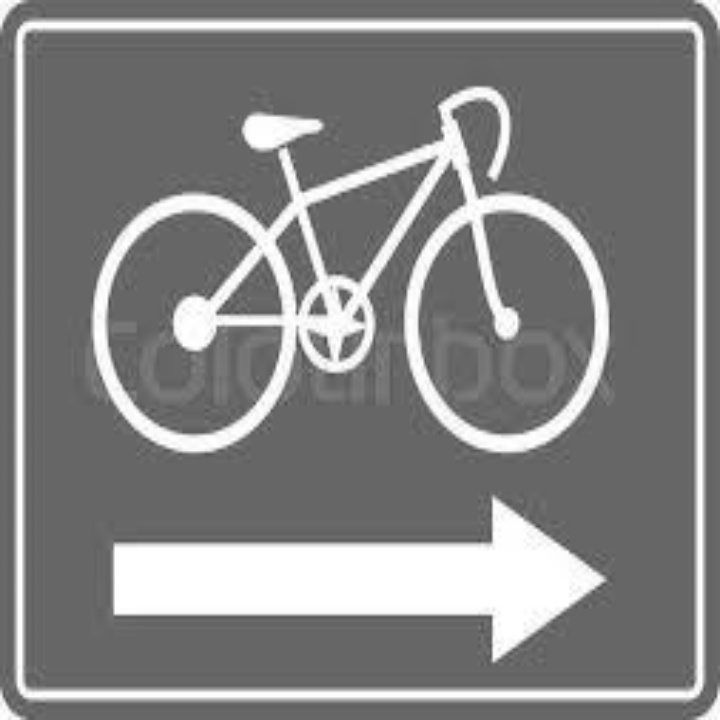bicycle: (40, 54, 633, 461)
